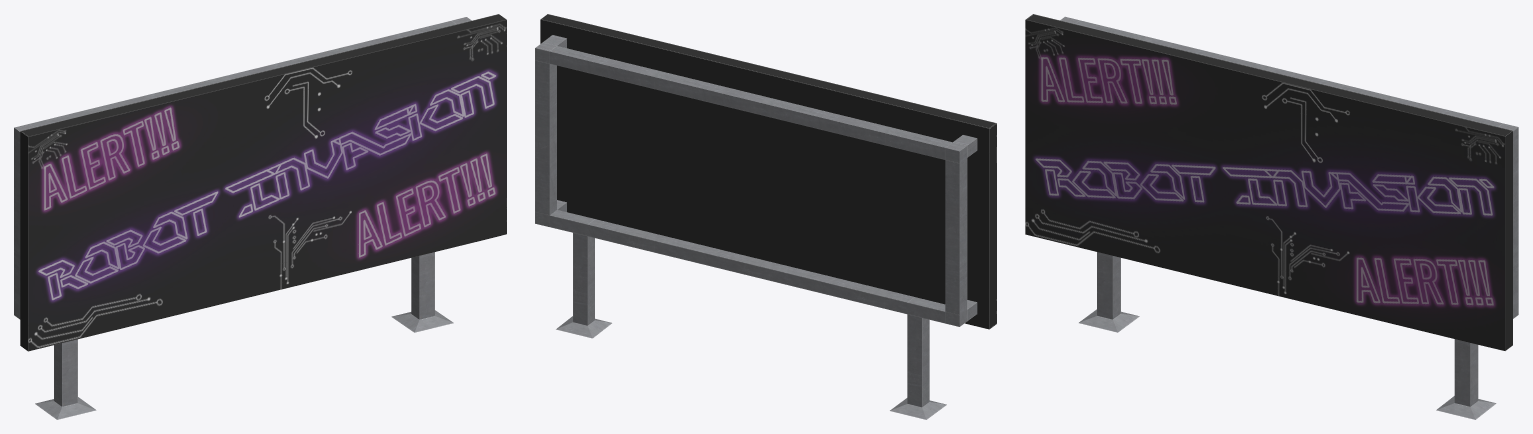
The model's file is Outdoor.fbx.
The picture shows the model from 3 angles, left to right: view 1: azimuth 30°, elevation 25°; view 2: azimuth 150°, elevation 25°; view 3: azimuth 330°, elevation 25°; orthographic projection. The views are drawn at different scales.
Parts seen in each view (by area): view 1: polySurface9; view 2: polySurface9; view 3: polySurface9.
Boxes of the visible parts, <box> form: polySurface9: <box>14,14,506,419</box>; polySurface9: <box>535,14,996,419</box>; polySurface9: <box>1025,14,1518,419</box>.
Size of the model in its own units: 1510 by 909 by 187.
Materials: 1 (1 with a texture image).
